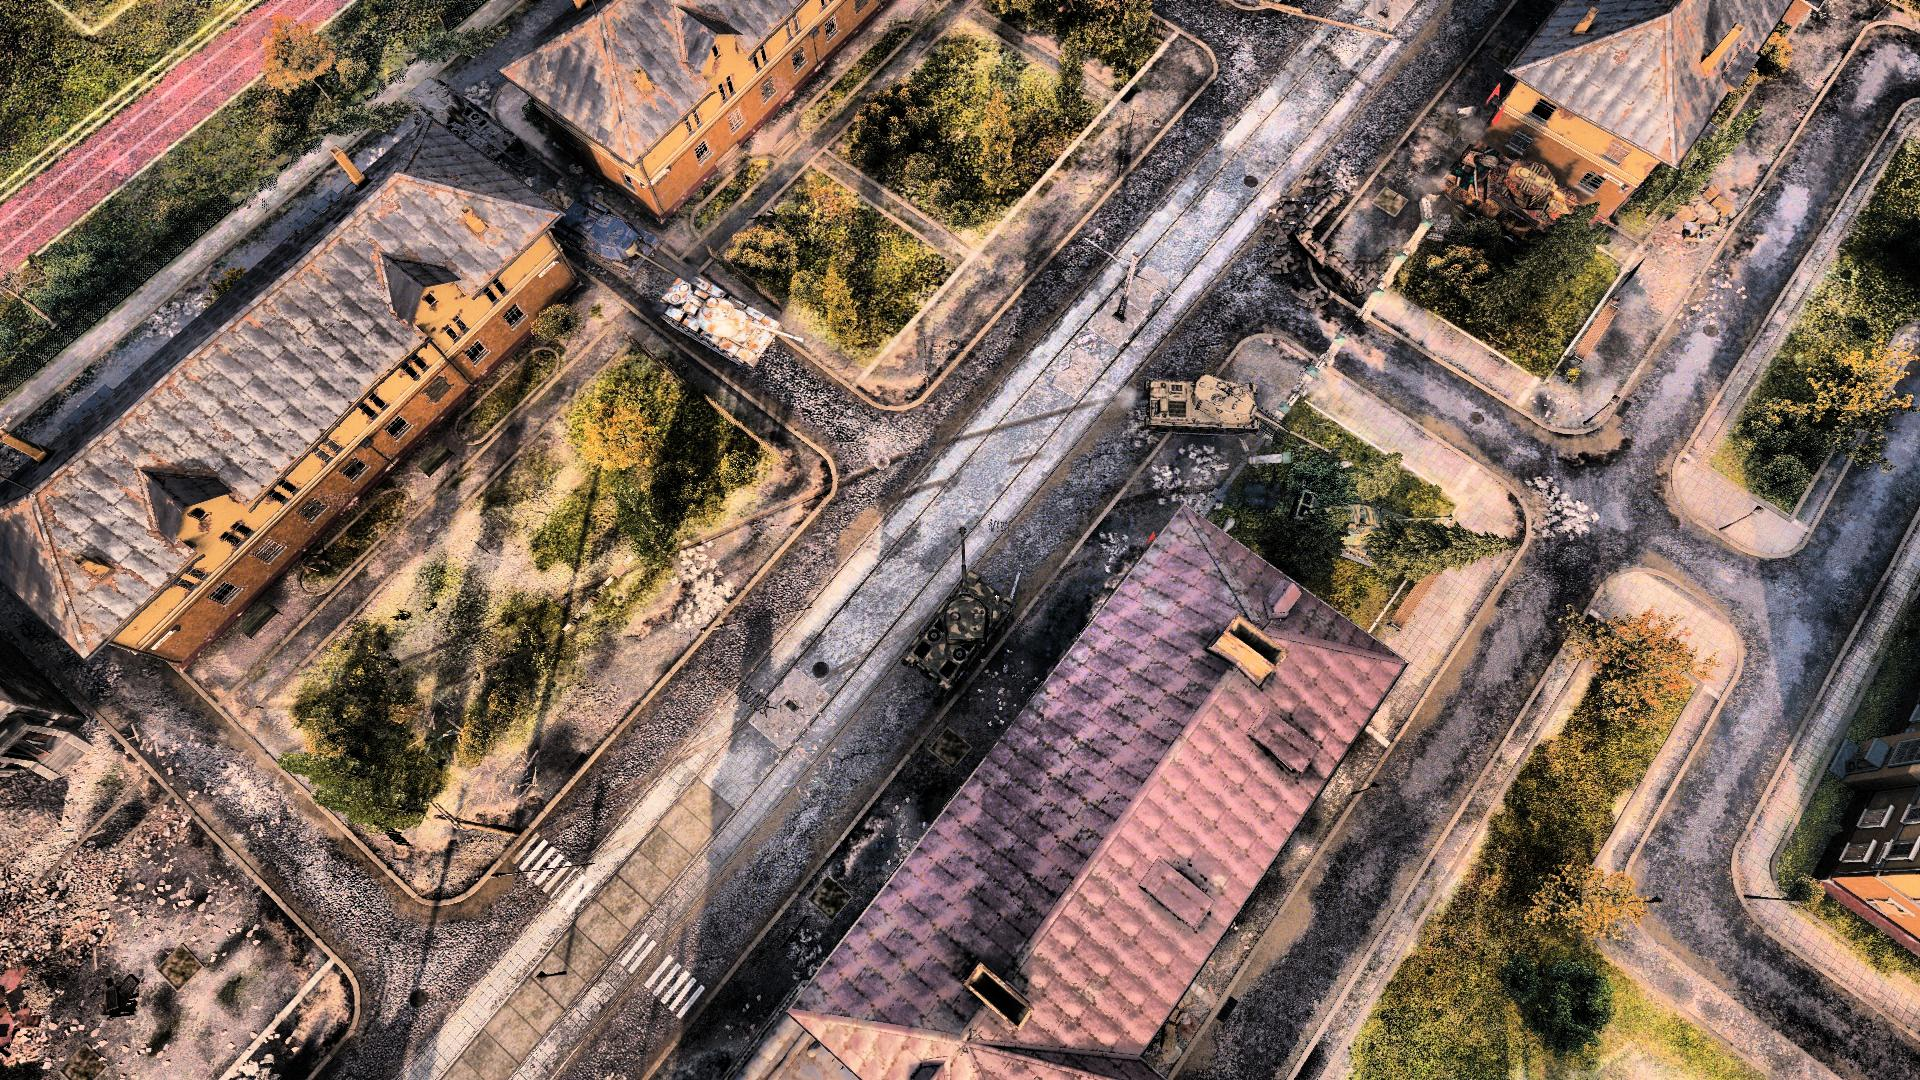military-vehicle: (907, 520, 1013, 696), (1149, 373, 1331, 456)
